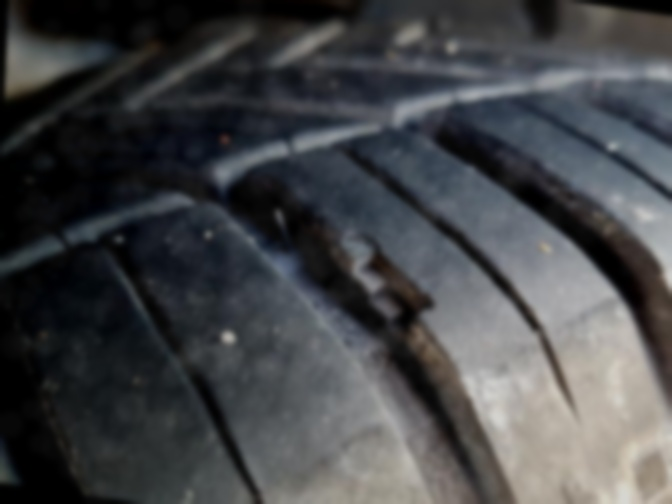temoin:80: (308, 215, 442, 361)
